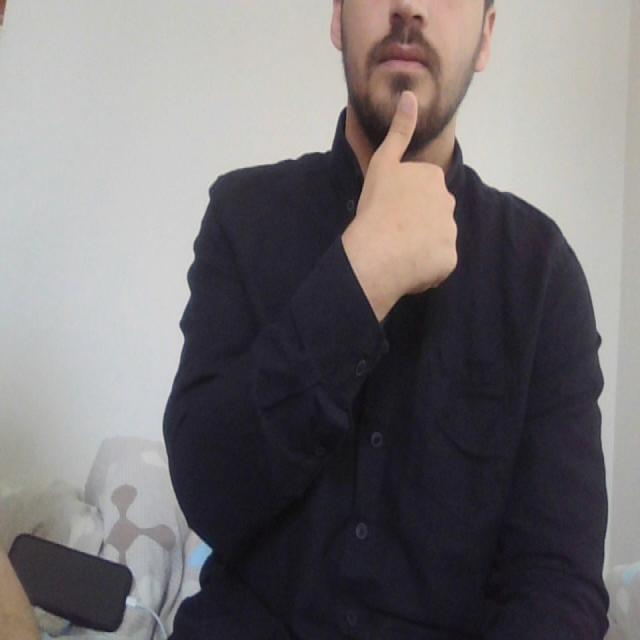Baba: (356, 32, 446, 165)
